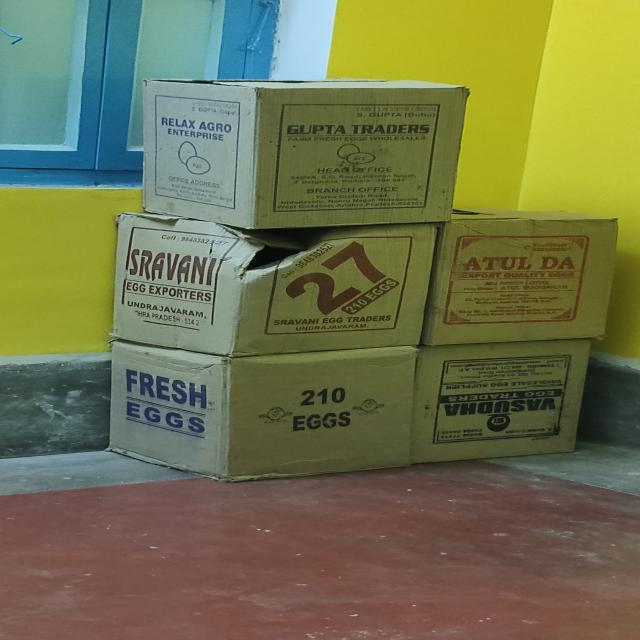squeeze: (183, 217, 382, 281)
